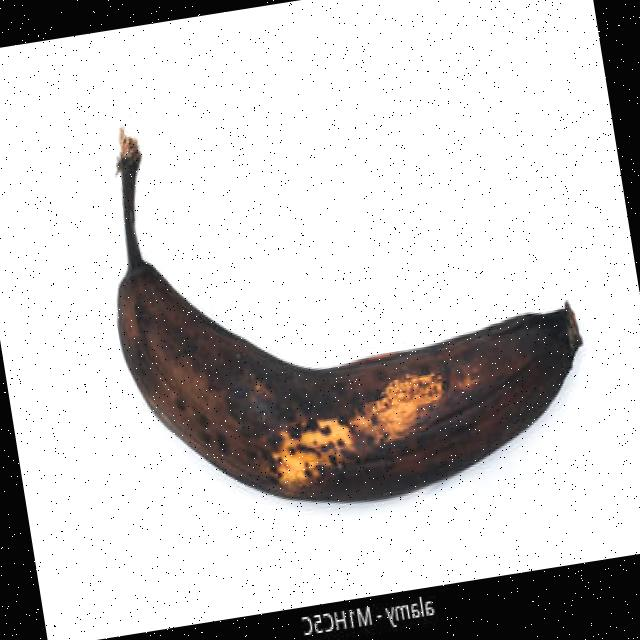Rotten: (84, 59, 606, 538)
